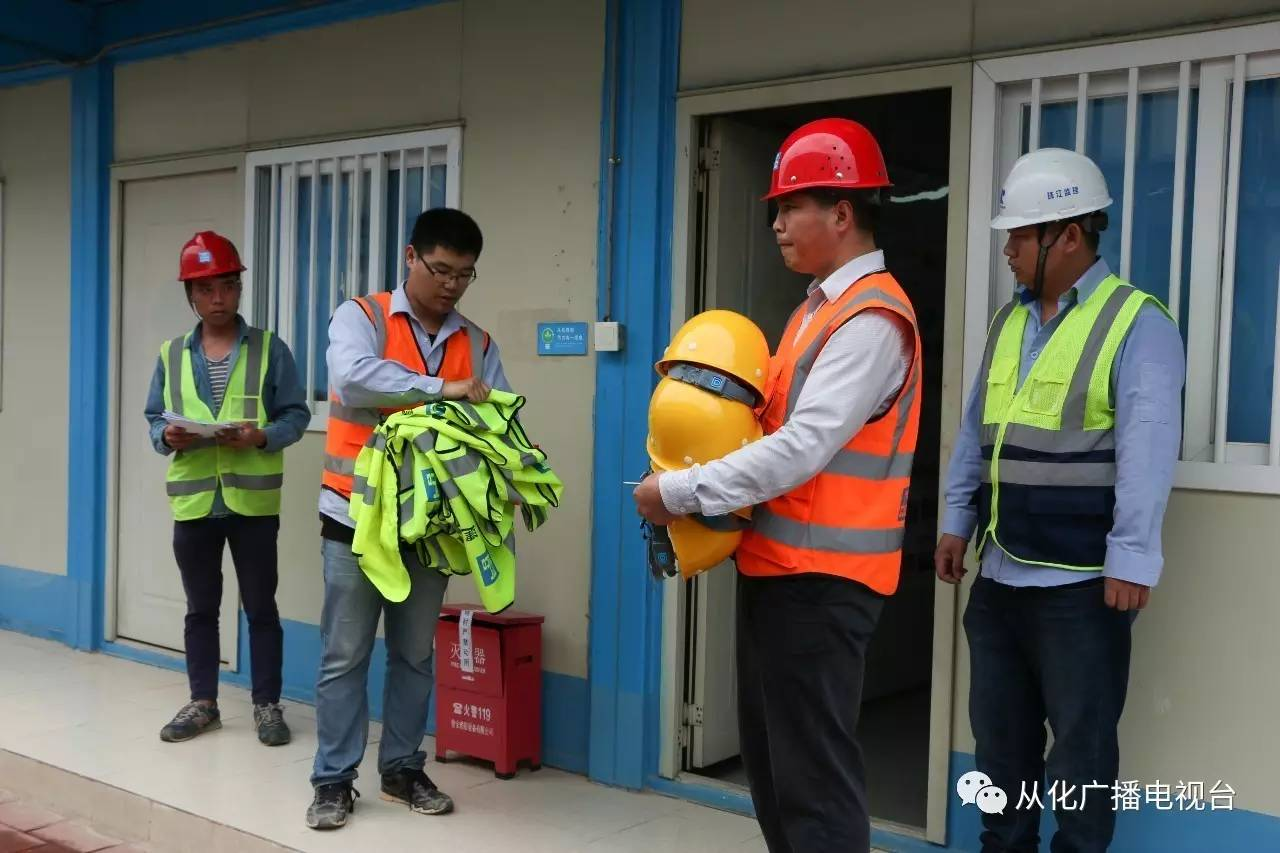head: (404, 205, 487, 318)
person: (631, 116, 925, 853), (931, 143, 1192, 853), (305, 206, 514, 832), (142, 227, 311, 749)
reflective_vest: (733, 268, 925, 601), (972, 272, 1178, 575), (320, 287, 491, 506), (158, 323, 285, 525)
safety_helmet: (759, 116, 898, 277), (989, 143, 1115, 293), (646, 460, 752, 584), (650, 306, 772, 409), (644, 375, 765, 471), (174, 228, 248, 330)
